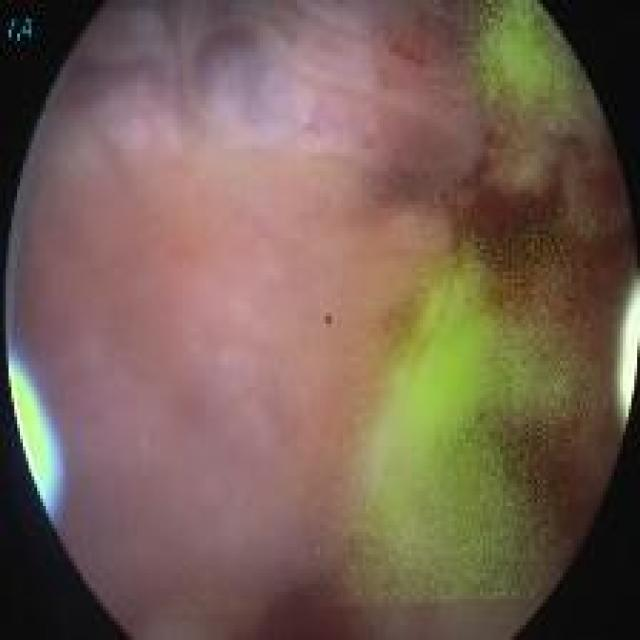blur: (34, 168, 545, 625)
color misalignment: (10, 358, 61, 512), (3, 6, 38, 55), (324, 316, 333, 325)
saturation: (5, 355, 68, 521), (614, 267, 637, 421)
